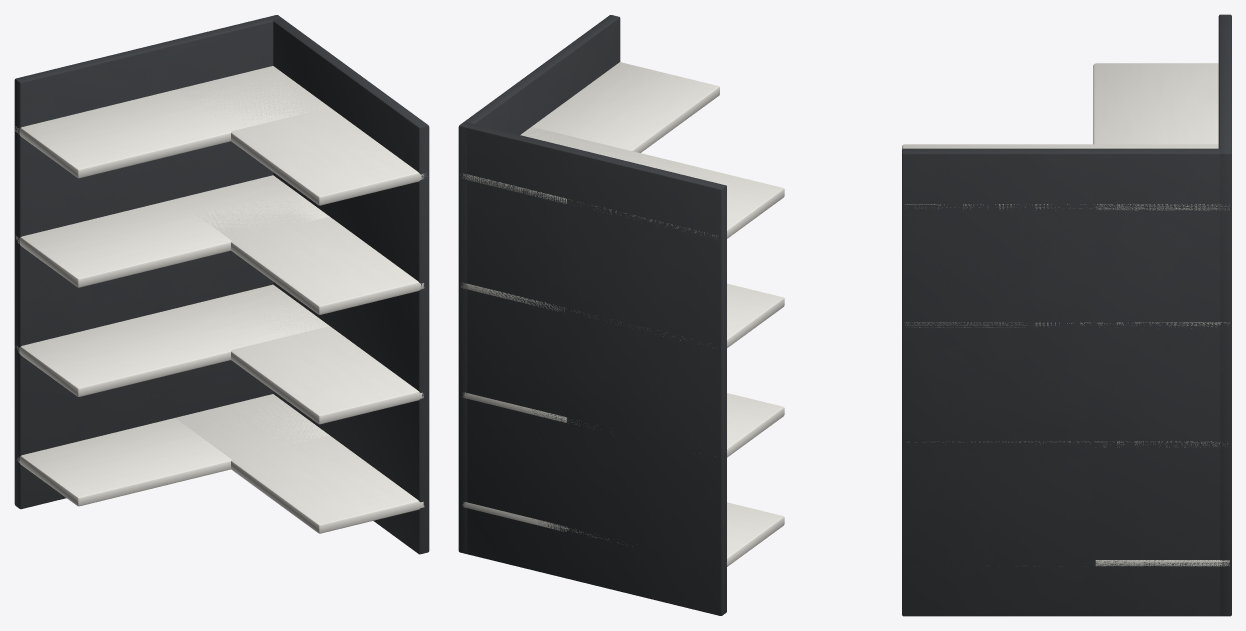
File: pf_display_corner_shelving_t1.glb
The picture shows the model from 3 angles, left to right: view 1: azimuth 30°, elevation 25°; view 2: azimuth 150°, elevation 25°; view 3: azimuth 270°, elevation 25°; orthographic projection. The views are drawn at different scales.
Parts seen in each view (by area): view 1: Corner_Back_X, Corner_Back_Y, Corner_Shelf_X_02, Corner_Shelf_Y_01, Corner_Shelf_X_04, Corner_Shelf_X_03, Corner_Shelf_Y_04, Corner_Shelf_Y_03, Corner_Shelf_X_01, Corner_Shelf_Y_02; view 2: Corner_Back_X, Corner_Back_Y, Corner_Shelf_Y_04, Corner_Shelf_X_04, Corner_Shelf_X_03, Corner_Shelf_X_01, Corner_Shelf_X_02, Corner_Shelf_Y_02; view 3: Corner_Back_Y, Corner_Shelf_X_04, Corner_Back_X, Corner_Shelf_Y_04, Corner_Shelf_X_01.
Boxes of the visible parts, x1=… form: Corner_Back_X: x1=14, y1=15, x2=281, y2=509; Corner_Back_Y: x1=270, y1=15, x2=429, y2=554; Corner_Shelf_X_02: x1=15, y1=284, x2=329, y2=396; Corner_Shelf_Y_01: x1=175, y1=394, x2=424, y2=533; Corner_Shelf_X_04: x1=15, y1=66, x2=324, y2=178; Corner_Shelf_X_03: x1=15, y1=175, x2=329, y2=287; Corner_Shelf_Y_04: x1=176, y1=66, x2=427, y2=205; Corner_Shelf_Y_03: x1=190, y1=178, x2=424, y2=314; Corner_Shelf_X_01: x1=17, y1=394, x2=329, y2=506; Corner_Shelf_Y_02: x1=220, y1=285, x2=423, y2=424; Corner_Back_X: x1=458, y1=122, x2=726, y2=615; Corner_Back_Y: x1=458, y1=15, x2=620, y2=553; Corner_Shelf_Y_04: x1=460, y1=62, x2=719, y2=203; Corner_Shelf_X_04: x1=464, y1=126, x2=784, y2=238; Corner_Shelf_X_03: x1=463, y1=283, x2=784, y2=348; Corner_Shelf_X_01: x1=487, y1=502, x2=784, y2=566; Corner_Shelf_X_02: x1=472, y1=393, x2=784, y2=457; Corner_Shelf_Y_02: x1=462, y1=392, x2=566, y2=422; Corner_Back_Y: x1=902, y1=148, x2=1231, y2=616; Corner_Shelf_X_04: x1=1093, y1=63, x2=1228, y2=210; Corner_Back_X: x1=1218, y1=14, x2=1231, y2=616; Corner_Shelf_Y_04: x1=902, y1=144, x2=1229, y2=210; Corner_Shelf_X_01: x1=1095, y1=560, x2=1229, y2=566.
Bounding box in the file's own units: 1 × 1.55 × 1.
3 materials, 2 textured.
